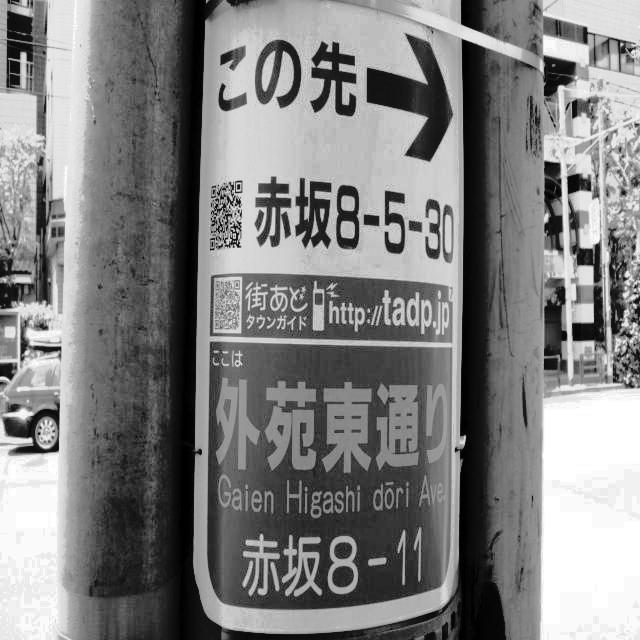qr_code: (210, 181, 242, 251), (215, 280, 240, 329)
